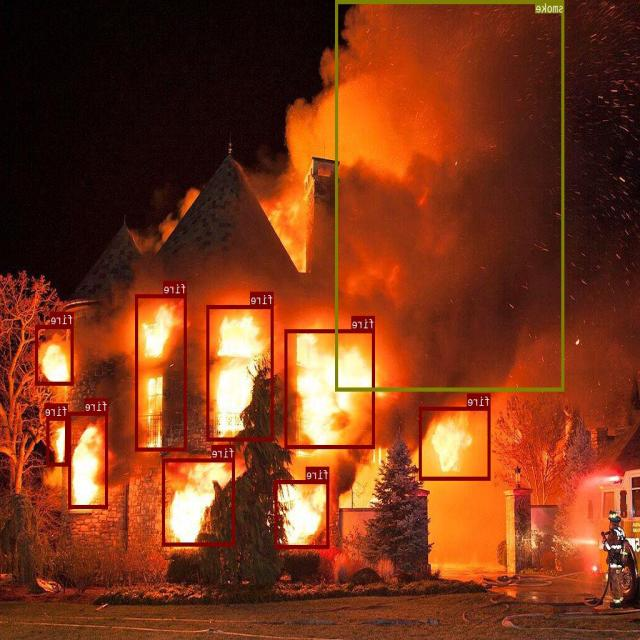fire: (286, 328, 375, 448), (207, 305, 274, 440), (136, 294, 187, 450), (163, 458, 235, 546), (420, 406, 491, 479), (275, 480, 330, 548), (70, 411, 108, 508), (36, 324, 74, 385), (47, 416, 69, 466)
smoke: (336, 0, 565, 391)
